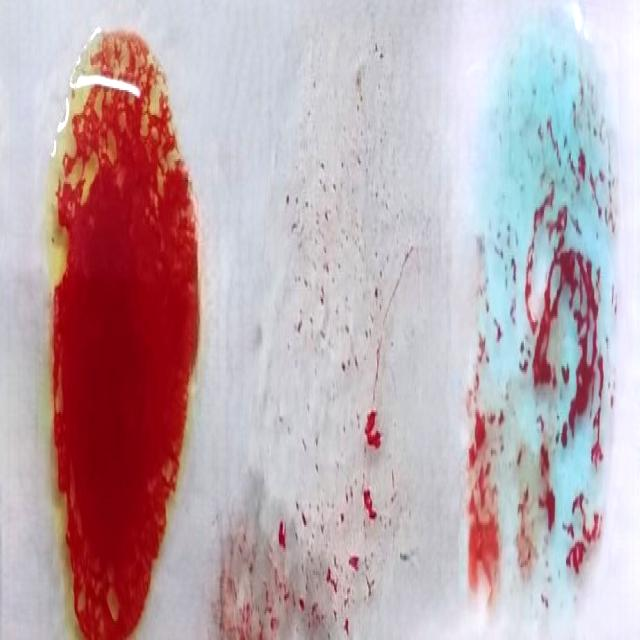A: (467, 27, 607, 606)
B: (49, 27, 194, 640)
D: (237, 96, 399, 640)
